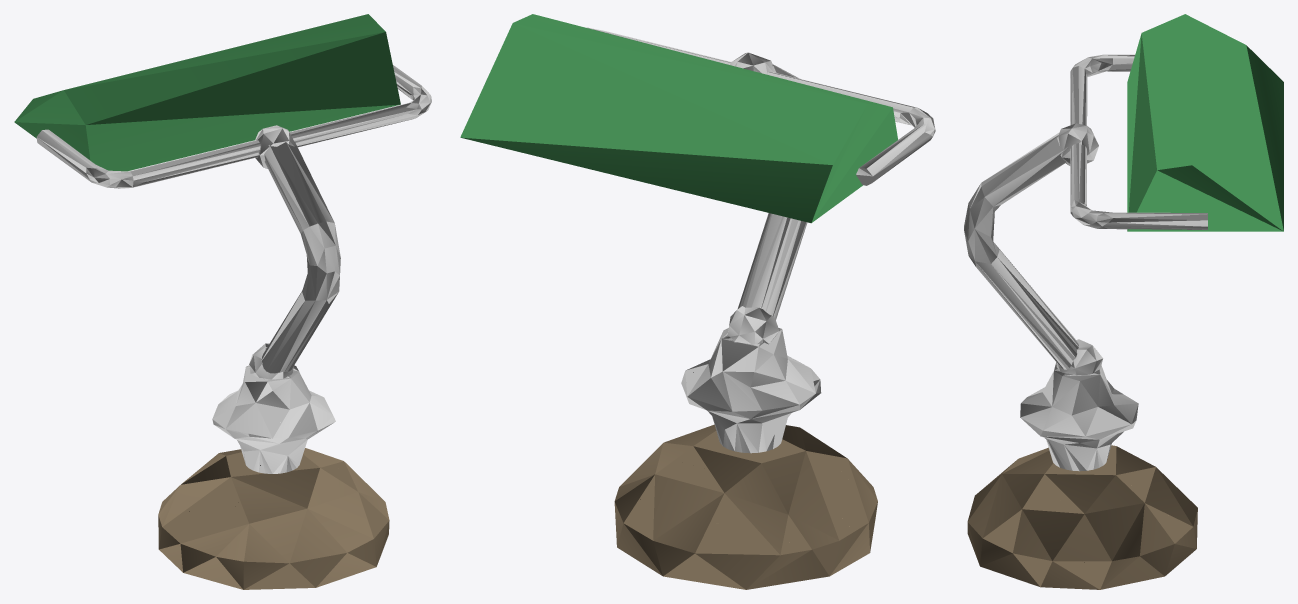
The model's file is library lamp.fbx.
3 views of the same model, side by side, from view 1: azimuth 30°, elevation 25°; view 2: azimuth 150°, elevation 25°; view 3: azimuth 270°, elevation 25° (orthographic). The views are drawn at different scales.
Visible parts, largest first — view 1: Group_007, Group_001, Group_002, Group_003, Group_005, SimpleSphere02_002, SimpleSphere02_001; view 2: Group_007, Group_001, Group_003, Group_002, Group_005, SimpleSphere02_001, SimpleSphere02_002; view 3: Group_007, Group_001, Group_002, Group_003, Group_005, SimpleSphere02_002, SimpleSphere02_001.
Part boxes in pixels (x1=…): Group_007: x1=14, y1=14, x2=400, y2=171; Group_001: x1=158, y1=448, x2=389, y2=589; Group_002: x1=261, y1=142, x2=340, y2=373; Group_003: x1=212, y1=365, x2=335, y2=473; Group_005: x1=36, y1=65, x2=431, y2=188; SimpleSphere02_002: x1=255, y1=125, x2=295, y2=168; SimpleSphere02_001: x1=249, y1=343, x2=293, y2=379; Group_007: x1=460, y1=14, x2=897, y2=223; Group_001: x1=614, y1=424, x2=877, y2=589; Group_003: x1=681, y1=328, x2=821, y2=453; Group_002: x1=737, y1=64, x2=807, y2=319; Group_005: x1=486, y1=27, x2=935, y2=185; SimpleSphere02_001: x1=727, y1=306, x2=779, y2=344; SimpleSphere02_002: x1=730, y1=52, x2=776, y2=74; Group_007: x1=1127, y1=14, x2=1283, y2=231; Group_001: x1=967, y1=445, x2=1197, y2=589; Group_002: x1=964, y1=133, x2=1078, y2=369; Group_003: x1=1020, y1=362, x2=1138, y2=471; Group_005: x1=1070, y1=54, x2=1207, y2=229; SimpleSphere02_002: x1=1057, y1=123, x2=1098, y2=165; SimpleSphere02_001: x1=1056, y1=339, x2=1102, y2=375.
Size of the model in its own units: 10.71 by 13.61 by 8.76.
